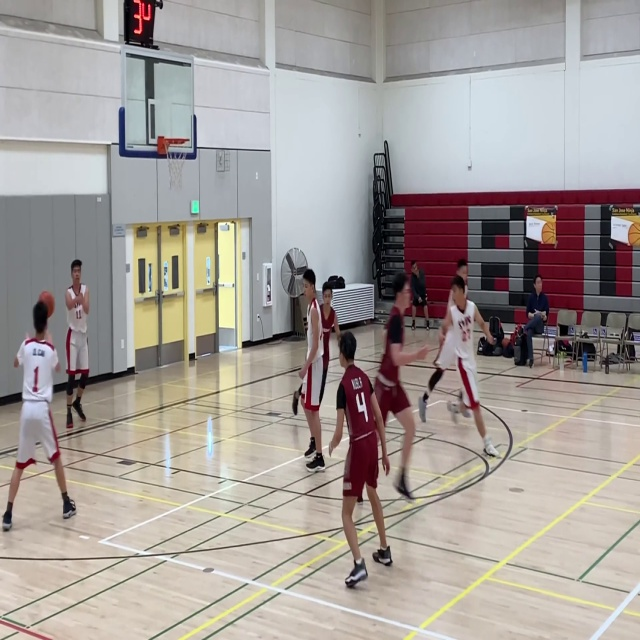Basketball: (38, 291, 55, 318)
